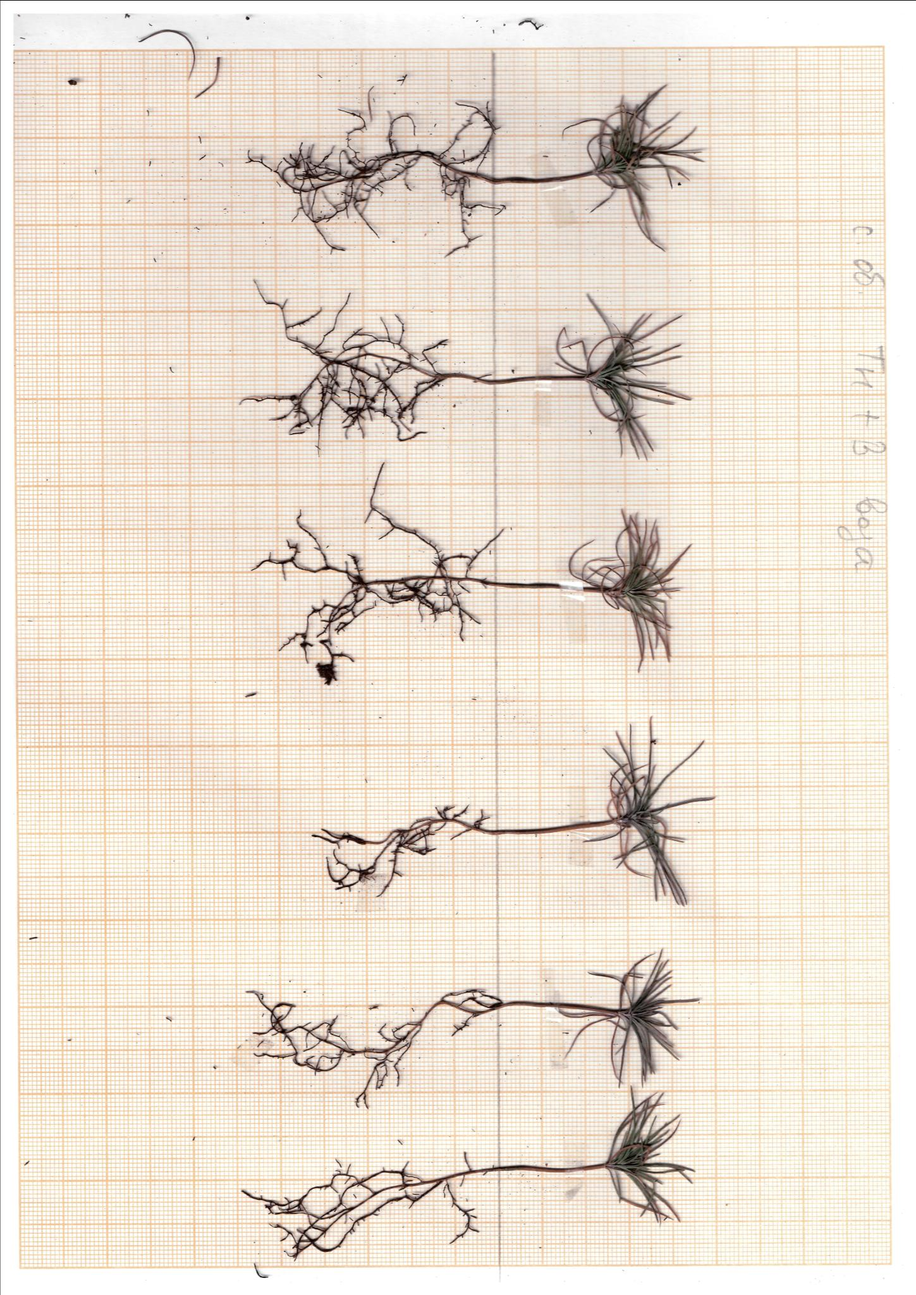cedr: (249, 457, 696, 687), (234, 271, 692, 468), (237, 75, 709, 260), (292, 713, 726, 913), (236, 1088, 697, 1270), (233, 951, 695, 1105)
